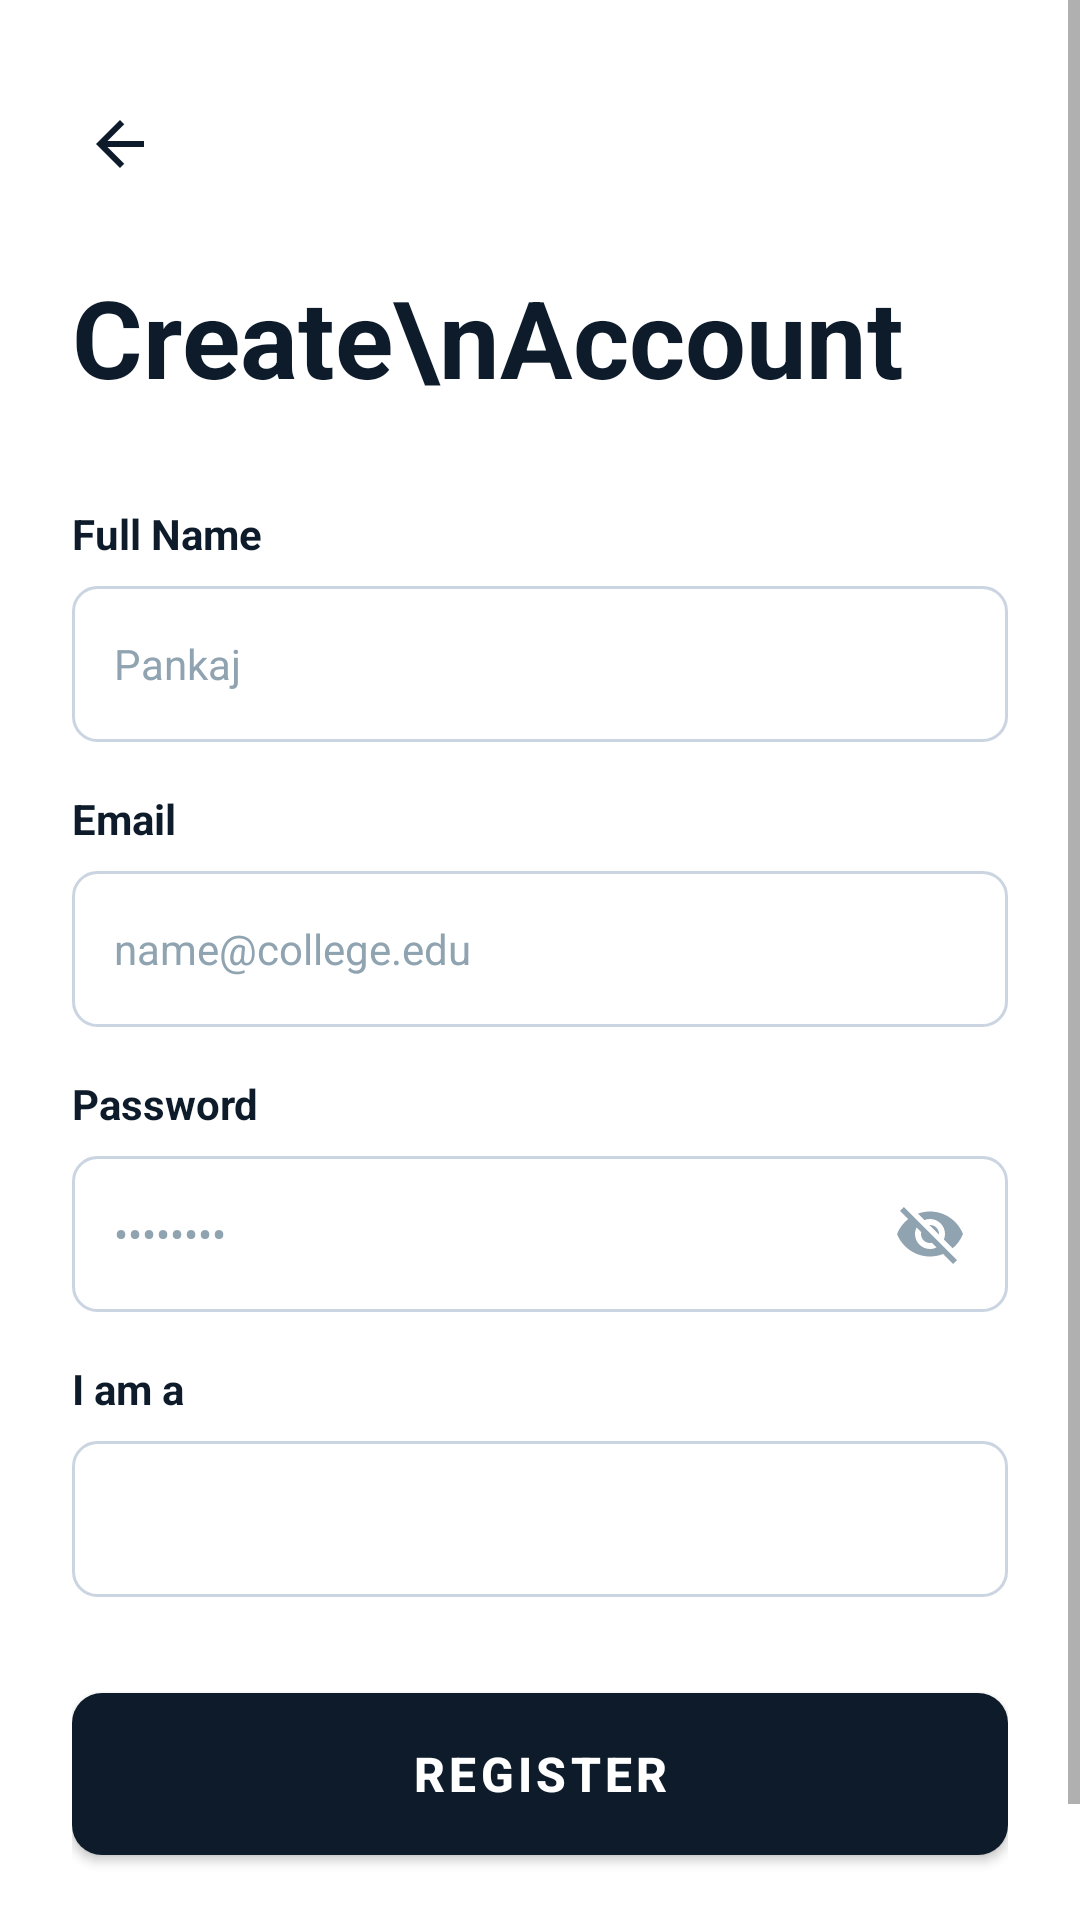

Screen size 1080*1920. Icon name, then its box in pixels as (x1, y1, x2, y2):
arrow back: (96, 120, 144, 168)
eye off: (897, 1207, 963, 1264)
